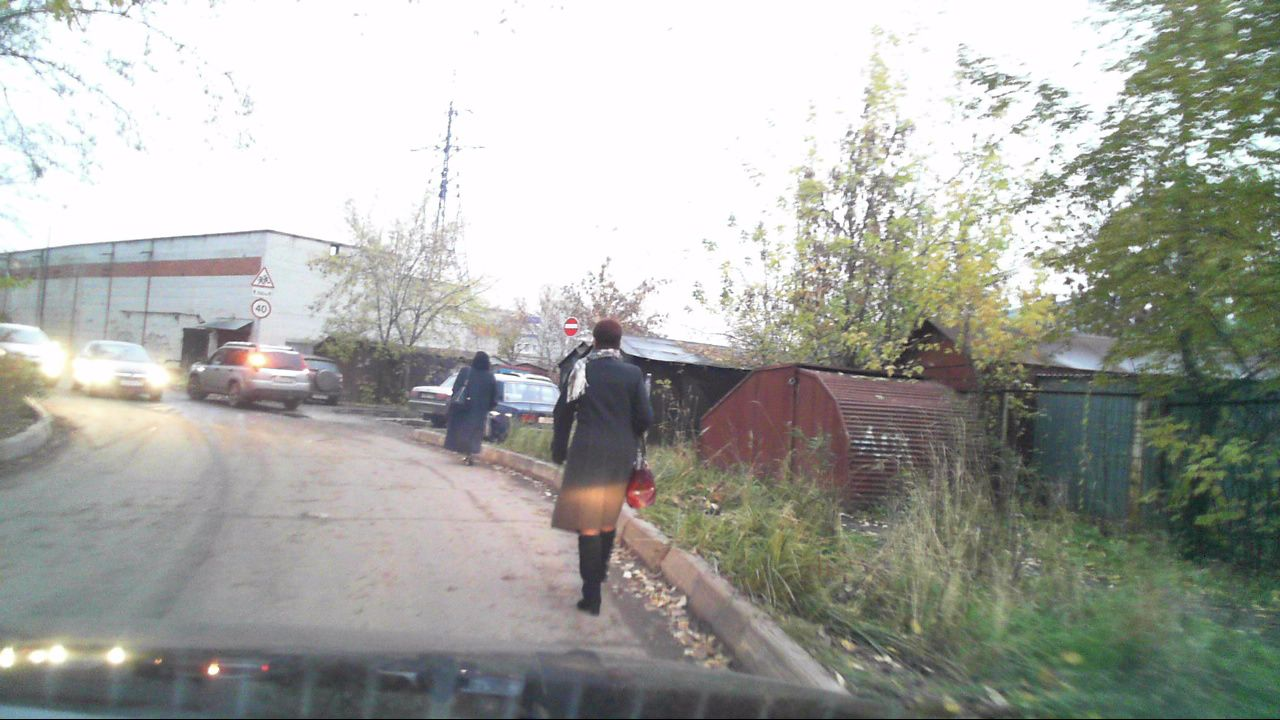speed_warning_40: (251, 298, 270, 317)
